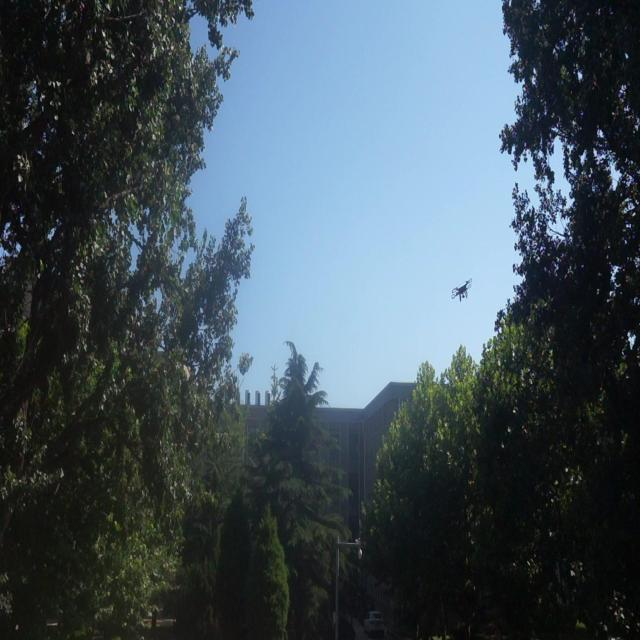drone: (449, 274, 474, 306)
